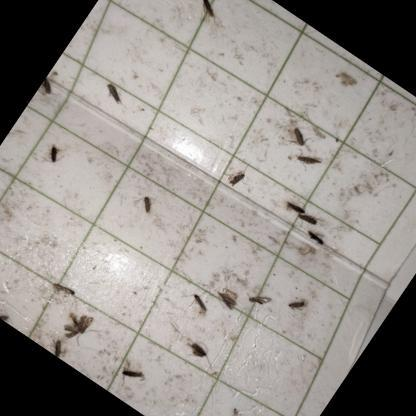prays_oleae: (104, 348, 154, 400), (216, 146, 261, 200), (54, 300, 102, 350), (286, 138, 329, 178), (44, 266, 84, 308), (93, 72, 132, 112), (285, 110, 322, 152), (34, 135, 72, 175), (176, 286, 212, 325), (243, 282, 280, 318), (187, 0, 229, 31), (292, 202, 326, 240), (182, 332, 216, 368), (280, 284, 314, 320), (277, 186, 310, 222), (213, 278, 244, 312), (132, 190, 159, 220), (45, 332, 73, 360), (304, 220, 332, 246), (34, 72, 58, 102), (0, 303, 12, 323)
